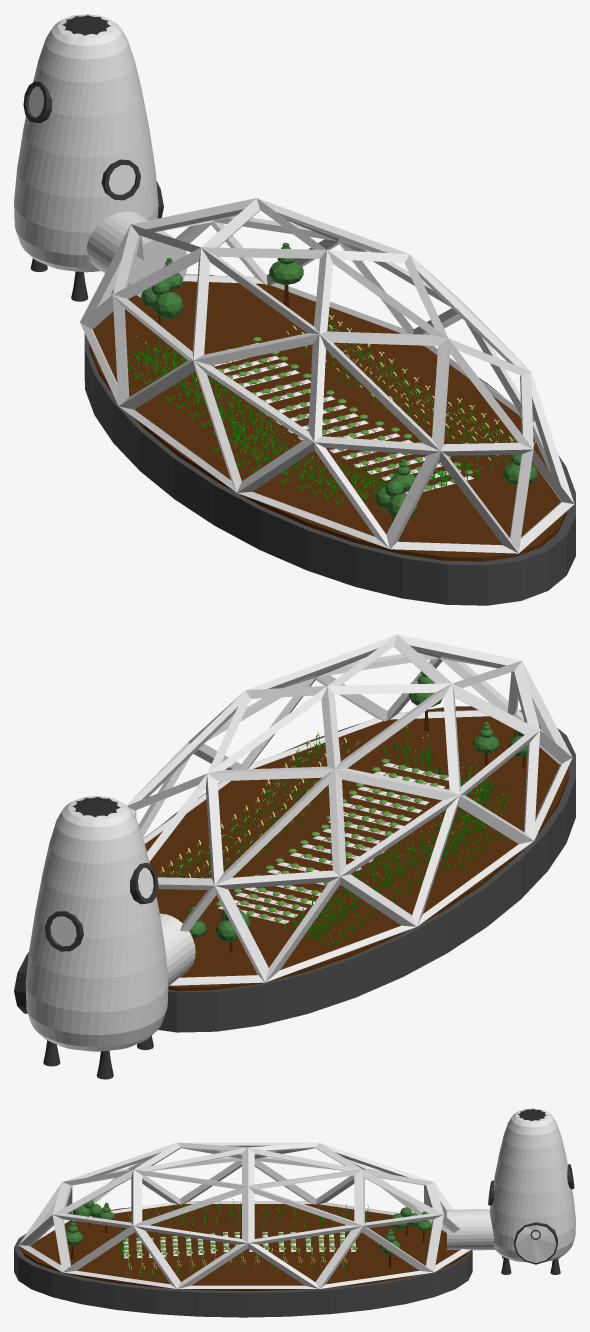
File: MarsPlantFarm_1.fbx
3 renders of one model, top to bottom at view 1: azimuth 30°, elevation 25°; view 2: azimuth 150°, elevation 25°; view 3: azimuth 270°, elevation 25°, orthographic. The views are drawn at different scales.
Parts seen in each view (by area): view 1: Cylinder.035; view 2: Cylinder.035; view 3: Cylinder.035.
Part boxes in pixels (left/top/right/bottom): Cylinder.035: left=14, top=14, right=575, bottom=605; Cylinder.035: left=14, top=634, right=575, bottom=1079; Cylinder.035: left=14, top=1108, right=575, bottom=1317.
Size of the model in its own units: 634 by 506 by 1646.
